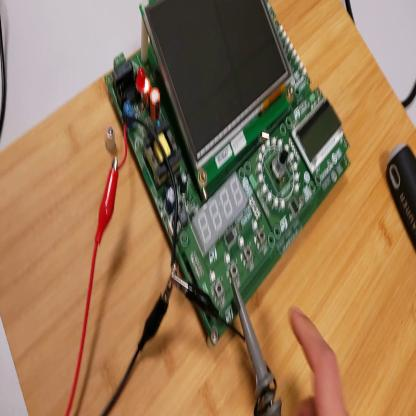hand: (289, 306, 348, 416)
low voltage board: (108, 1, 355, 340)
oscilloscope probe tip: (232, 275, 283, 416)
screwdriver-: (387, 141, 416, 252)
working area: (2, 4, 416, 414)
